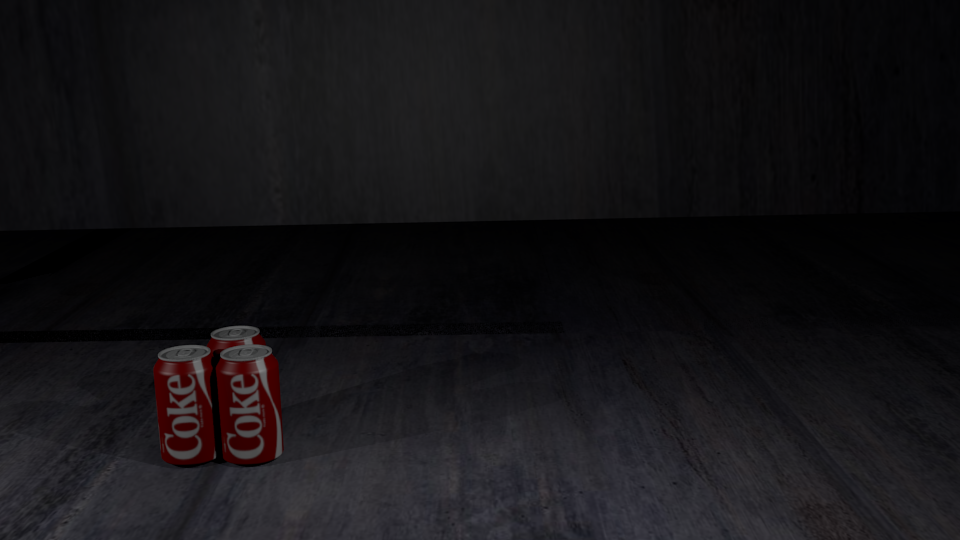cola_can: (153, 345, 219, 461), (216, 345, 280, 460), (207, 326, 264, 436)
